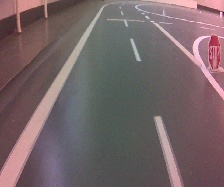stop sign: (207, 33, 222, 73)
